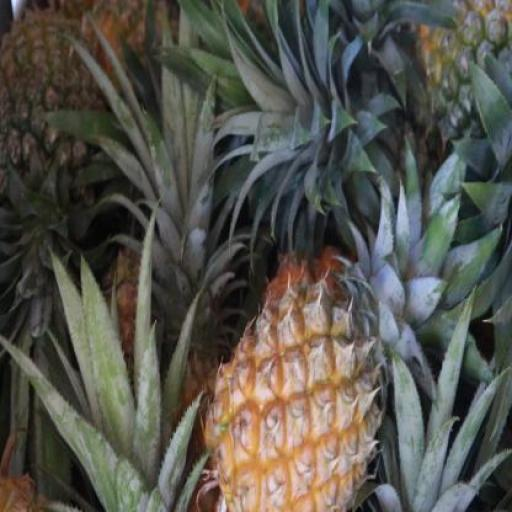Pineapple - v8 v1: (206, 274, 386, 512)
